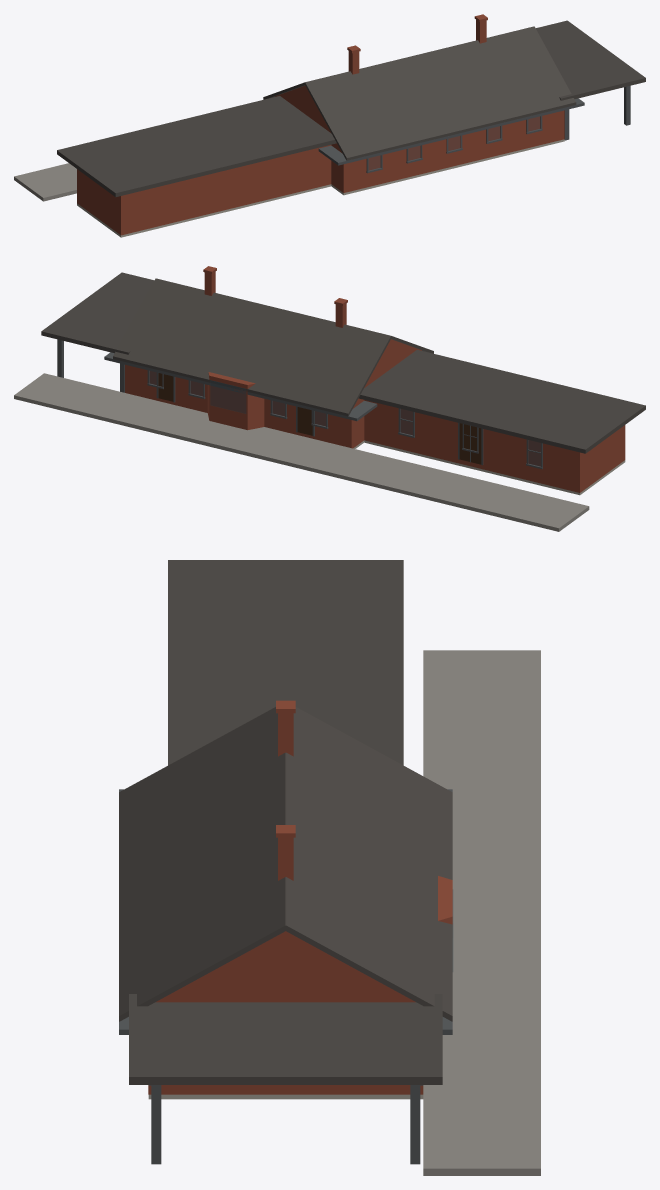
Rendered from Milton_Depot.glb.
3 renders of one model, top to bottom at view 1: azimuth 30°, elevation 25°; view 2: azimuth 150°, elevation 25°; view 3: azimuth 270°, elevation 25°, orthographic. The views are drawn at different scales.
Parts seen in each view (by area): view 1: roof, brick, platform, trim, foundation, glass, chimney, sash; view 2: roof, platform, brick, trim, glass, doors, sash, foundation, chimney; view 3: roof, platform, brick, trim, chimney, foundation.
Boxes of the visible parts, x1=… form: roof: x1=57, y1=20, x2=645, y2=196; brick: x1=77, y1=86, x2=564, y2=235; platform: x1=14, y1=163, x2=76, y2=201; trim: x1=318, y1=85, x2=630, y2=165; foundation: x1=77, y1=139, x2=564, y2=237; glass: x1=369, y1=116, x2=540, y2=170; chimney: x1=347, y1=14, x2=487, y2=74; sash: x1=366, y1=116, x2=542, y2=173; roof: x1=41, y1=272, x2=645, y2=453; platform: x1=14, y1=373, x2=589, y2=531; brick: x1=125, y1=339, x2=625, y2=492; trim: x1=57, y1=339, x2=483, y2=465; glass: x1=150, y1=371, x2=540, y2=466; doors: x1=158, y1=373, x2=481, y2=464; sash: x1=147, y1=370, x2=542, y2=469; foundation: x1=353, y1=440, x2=625, y2=495; chimney: x1=203, y1=266, x2=347, y2=327; roof: x1=119, y1=560, x2=452, y2=1084; platform: x1=423, y1=650, x2=540, y2=1175; brick: x1=148, y1=876, x2=452, y2=1094; trim: x1=119, y1=789, x2=452, y2=1164; chimney: x1=276, y1=700, x2=295, y2=880; foundation: x1=148, y1=1094, x2=423, y2=1099.
Size of the model in its own units: 1.31 by 0.2628 by 0.452.
